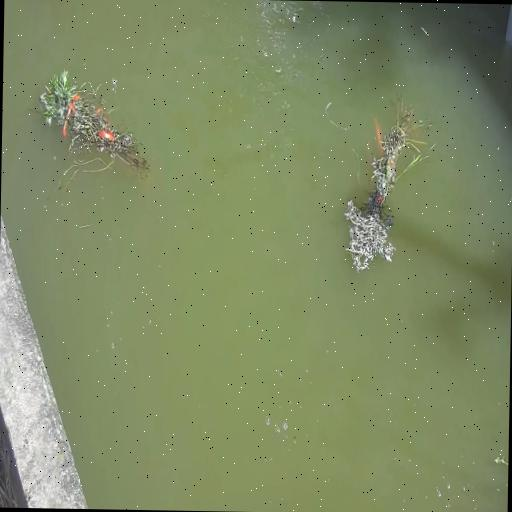twig: (340, 94, 434, 272), (36, 68, 152, 186)
